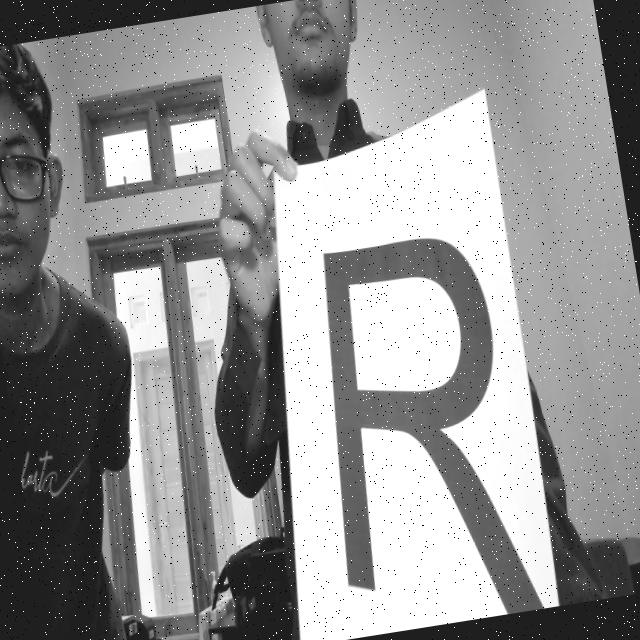r: (282, 203, 548, 640)
